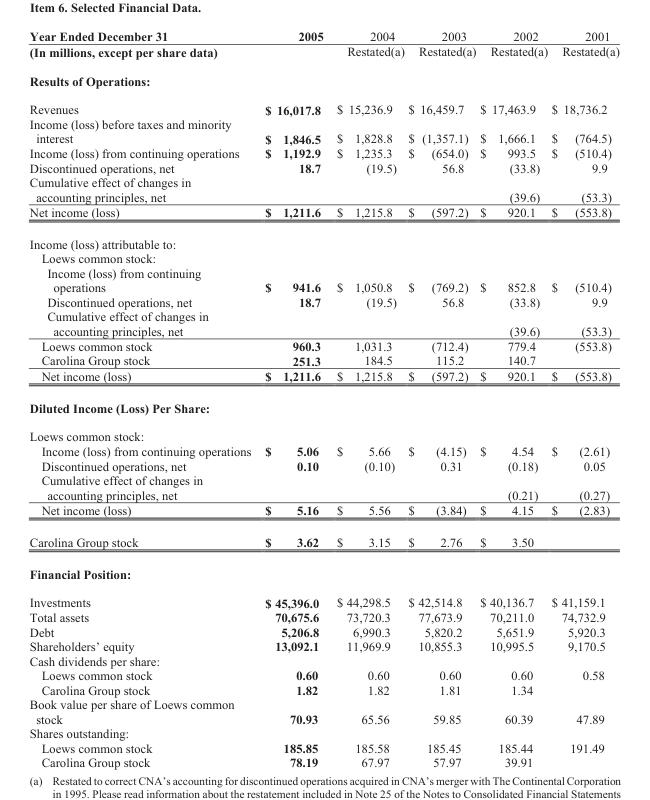table: (28, 29, 618, 769)
table column: (28, 29, 257, 769), (329, 29, 405, 769), (257, 29, 329, 769), (405, 29, 477, 769), (477, 29, 548, 769), (548, 29, 618, 769)
table column header: (28, 29, 618, 65)
table projected row header: (28, 391, 618, 421), (28, 557, 618, 587), (28, 65, 618, 94), (28, 227, 618, 250), (28, 421, 618, 443), (28, 116, 618, 131), (28, 174, 618, 189), (28, 250, 618, 265), (28, 308, 618, 323), (28, 472, 618, 487), (28, 696, 618, 711), (28, 725, 618, 740), (28, 265, 618, 279), (28, 653, 618, 667)
table row: (28, 29, 618, 65), (28, 525, 618, 557), (28, 391, 618, 421), (28, 557, 618, 587), (28, 65, 618, 94), (28, 203, 618, 227), (28, 367, 618, 391), (28, 501, 618, 525), (28, 227, 618, 250), (28, 94, 618, 116), (28, 421, 618, 443), (28, 587, 618, 609), (28, 116, 618, 131), (28, 145, 618, 160), (28, 174, 618, 189), (28, 250, 618, 265), (28, 279, 618, 294), (28, 308, 618, 323), (28, 323, 618, 338), (28, 352, 618, 367), (28, 443, 618, 458), (28, 472, 618, 487), (28, 609, 618, 624), (28, 638, 618, 653), (28, 667, 618, 682), (28, 696, 618, 711), (28, 725, 618, 740), (28, 754, 618, 769), (28, 131, 618, 145), (28, 160, 618, 174), (28, 189, 618, 203), (28, 265, 618, 279), (28, 294, 618, 308), (28, 338, 618, 352), (28, 458, 618, 472), (28, 487, 618, 501), (28, 624, 618, 638), (28, 653, 618, 667), (28, 682, 618, 696), (28, 711, 618, 725), (28, 740, 618, 754)
